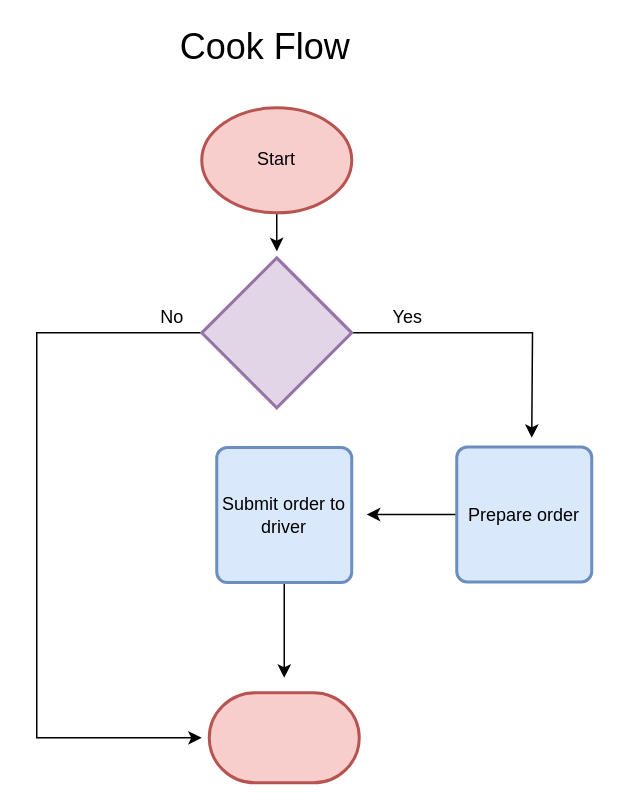
Some shapes in this 620 by 810 pixel diagram are drawn without their labels. Each missing label, with the centre of its shape:
"End" belongs at (283,737).
"Order received?" belongs at (276,332).
